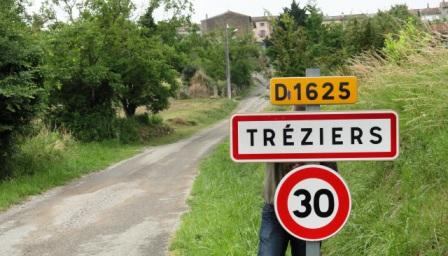Speed_limit_30km: (273, 164, 352, 240)
